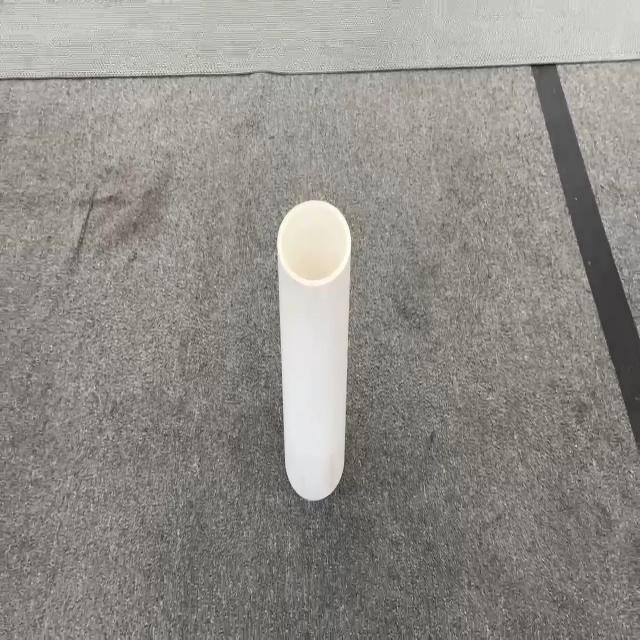coral: (276, 198, 352, 502)
